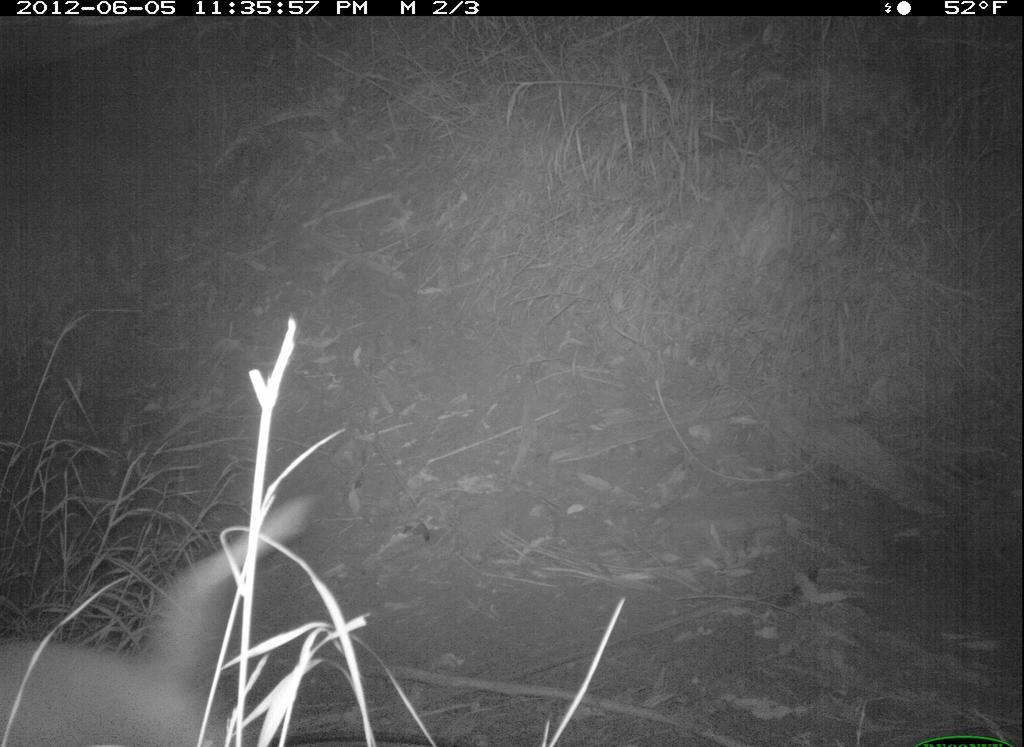dog: (16, 489, 342, 744)
